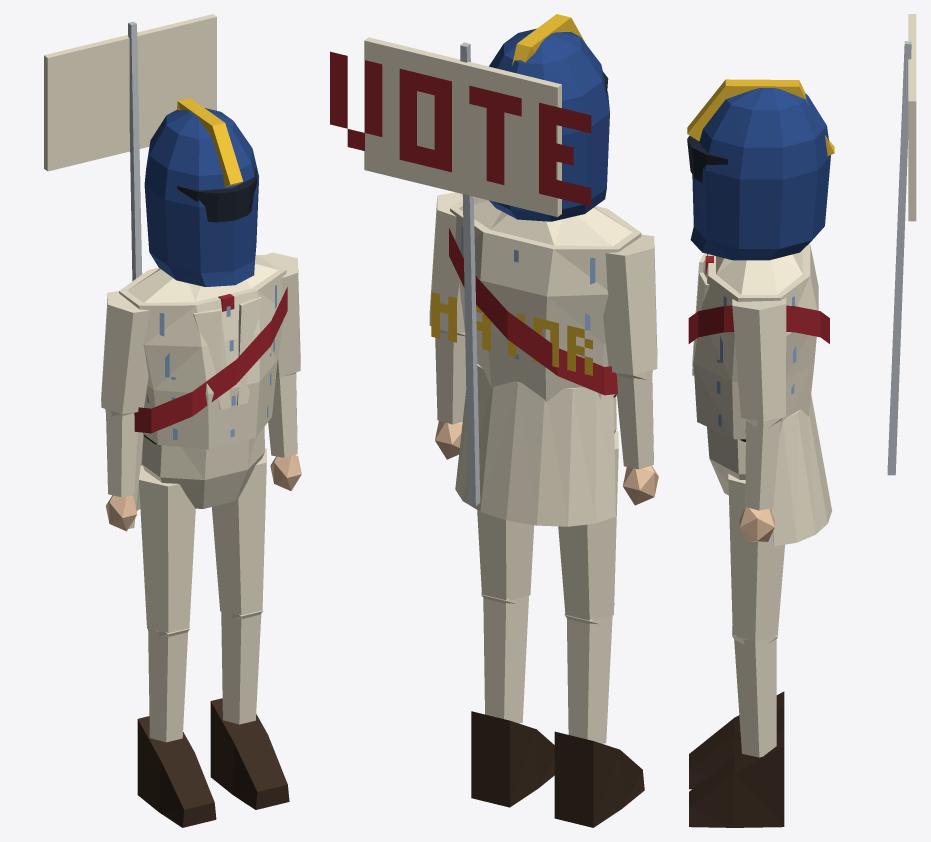
Rendered from the-mayor.glb.
3 renders of one model, left to right at view 1: azimuth 30°, elevation 25°; view 2: azimuth 150°, elevation 25°; view 3: azimuth 270°, elevation 25°, orthographic. The views are drawn at different scales.
Parts seen in each view (by area): view 1: chest_mesh, prop_mesh, head_mesh, shin_l_mesh, shin_r_mesh, thigh_r_mesh, thigh_l_mesh, hips_mesh, upper_arm_r_mesh, forearm_r_mesh, forearm_l_mesh, upper_arm_l_mesh (+2 smaller); view 2: chest_mesh, prop_mesh, coat_r_mesh, prop_detail, shin_r_mesh, shin_l_mesh, head_mesh, upper_arm_r_mesh, thigh_r_mesh, coat_l_mesh, thigh_l_mesh, forearm_r_mesh (+4 smaller); view 3: head_mesh, chest_mesh, shin_l_mesh, coat_l_mesh, upper_arm_l_mesh, thigh_l_mesh, prop_mesh, forearm_l_mesh, shin_r_mesh, head_detail, hips_mesh.
Part boxes in pixels (box(x1,y1,x2,y2)): chest_mesh: box(119, 255, 287, 449); prop_mesh: box(44, 14, 216, 281); head_mesh: box(144, 108, 258, 286); shin_l_mesh: box(210, 611, 289, 809); shin_r_mesh: box(137, 629, 216, 827); thigh_r_mesh: box(139, 465, 195, 636); thigh_l_mesh: box(212, 448, 266, 618); hips_mesh: box(142, 427, 264, 508); upper_arm_r_mesh: box(101, 291, 149, 416); forearm_r_mesh: box(106, 409, 137, 531); forearm_l_mesh: box(268, 373, 301, 490); upper_arm_l_mesh: box(265, 252, 300, 377); chest_mesh: box(449, 197, 641, 402); prop_mesh: box(364, 37, 561, 505); coat_r_mesh: box(506, 382, 615, 526); prop_detail: box(330, 51, 591, 206); shin_r_mesh: box(554, 615, 644, 827); shin_l_mesh: box(471, 596, 554, 807); head_mesh: box(489, 28, 609, 221); upper_arm_r_mesh: box(603, 234, 657, 379); thigh_r_mesh: box(558, 431, 618, 624); coat_l_mesh: box(455, 364, 517, 520); thigh_l_mesh: box(477, 510, 534, 603); forearm_r_mesh: box(616, 370, 658, 505); head_mesh: box(687, 88, 830, 260); chest_mesh: box(688, 243, 829, 439); shin_l_mesh: box(689, 639, 784, 827); coat_l_mesh: box(771, 394, 831, 546); upper_arm_l_mesh: box(732, 297, 786, 427); thigh_l_mesh: box(728, 474, 784, 644); prop_mesh: box(887, 14, 916, 475); forearm_l_mesh: box(739, 420, 780, 541); shin_r_mesh: box(689, 691, 784, 789); head_detail: box(687, 79, 834, 155); hips_mesh: box(707, 427, 745, 495).
Bounding box in the file's own units: 0.675 × 2.02 × 0.5558.
